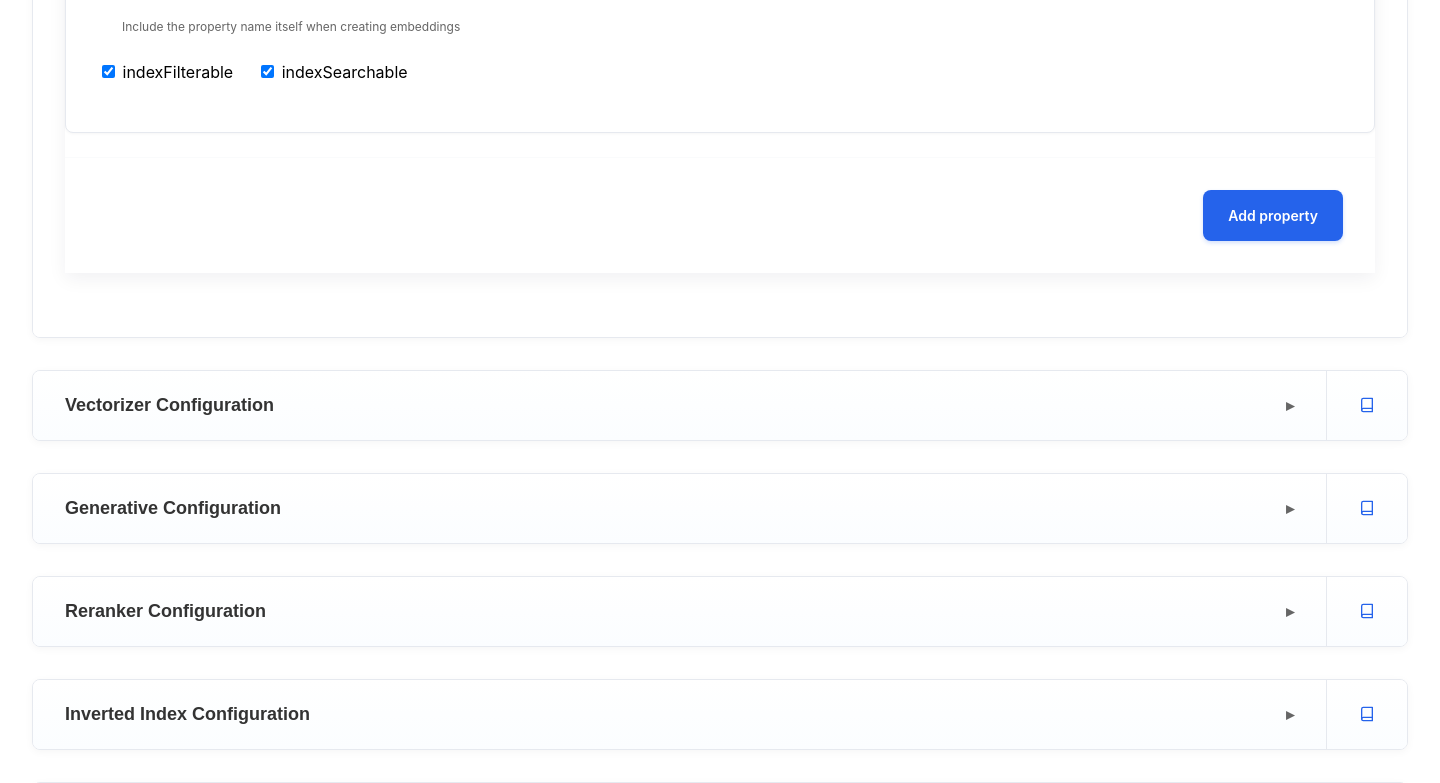
Scenario: Collection - Dynamic Index with Quantizers › should show Compression/Quantization tab for non-dynamic index types
This screenshot has width=1440, height=783.
(page scrolled)
// Expand Vectorizer Configuration section
Click the button "Vectorizer Configuration ▸" at (170, 405), box [33,371,1326,440]
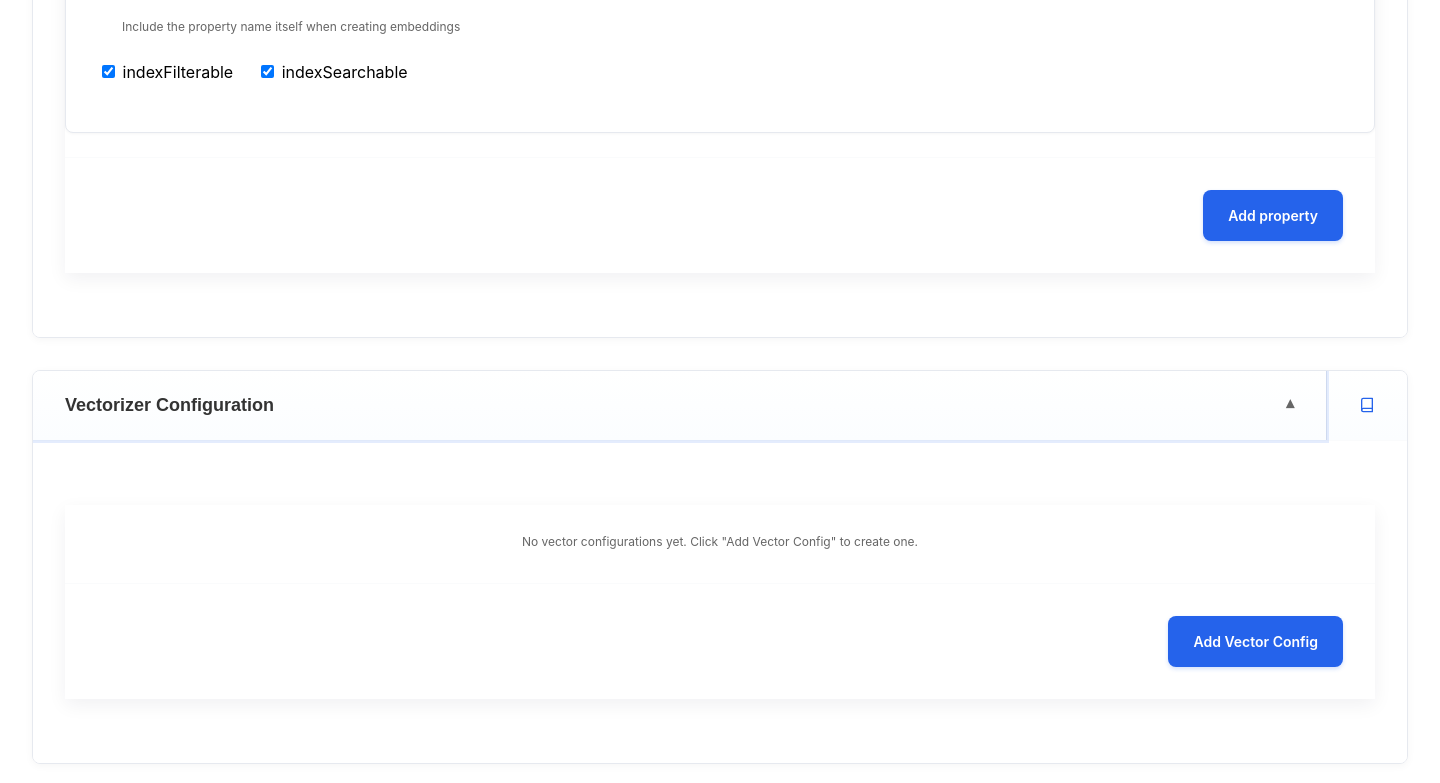
Expected: the button "Add Vector Config" is shown
// Add a vector config
Click the button "Add Vector Config" at (1256, 642), box [1168,616,1343,667]
(page scrolled)
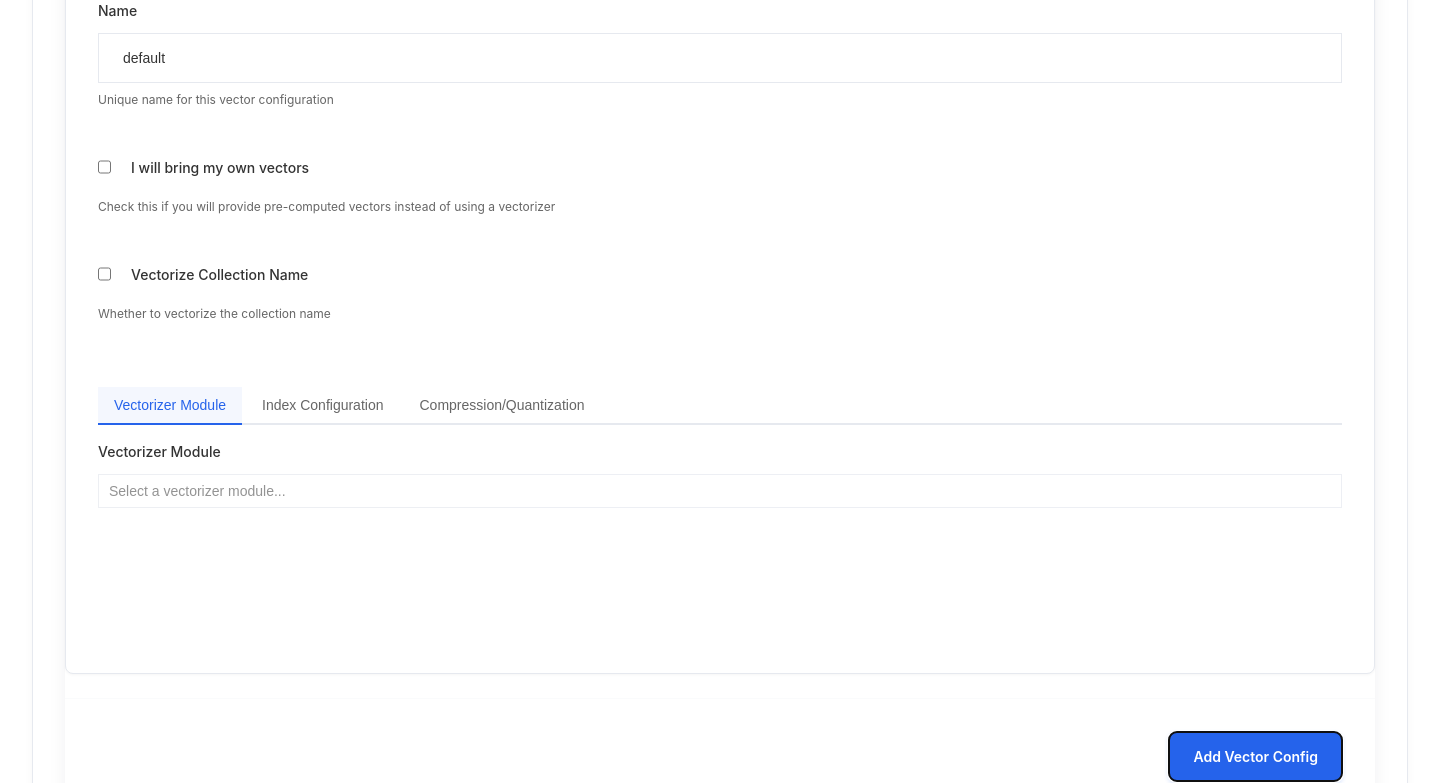
Expected: the button "Compression/Quantization" is shown, [404,386,600,424]
